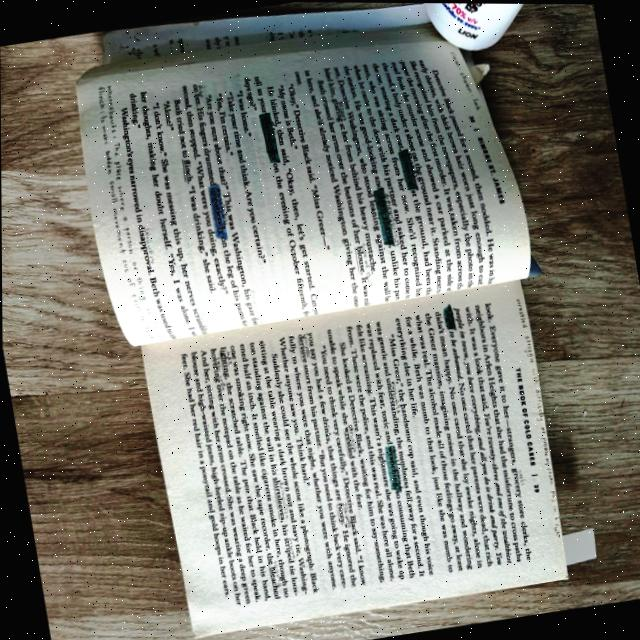Book: (77, 4, 565, 635)
Plastic Cup: (424, 2, 523, 50)
